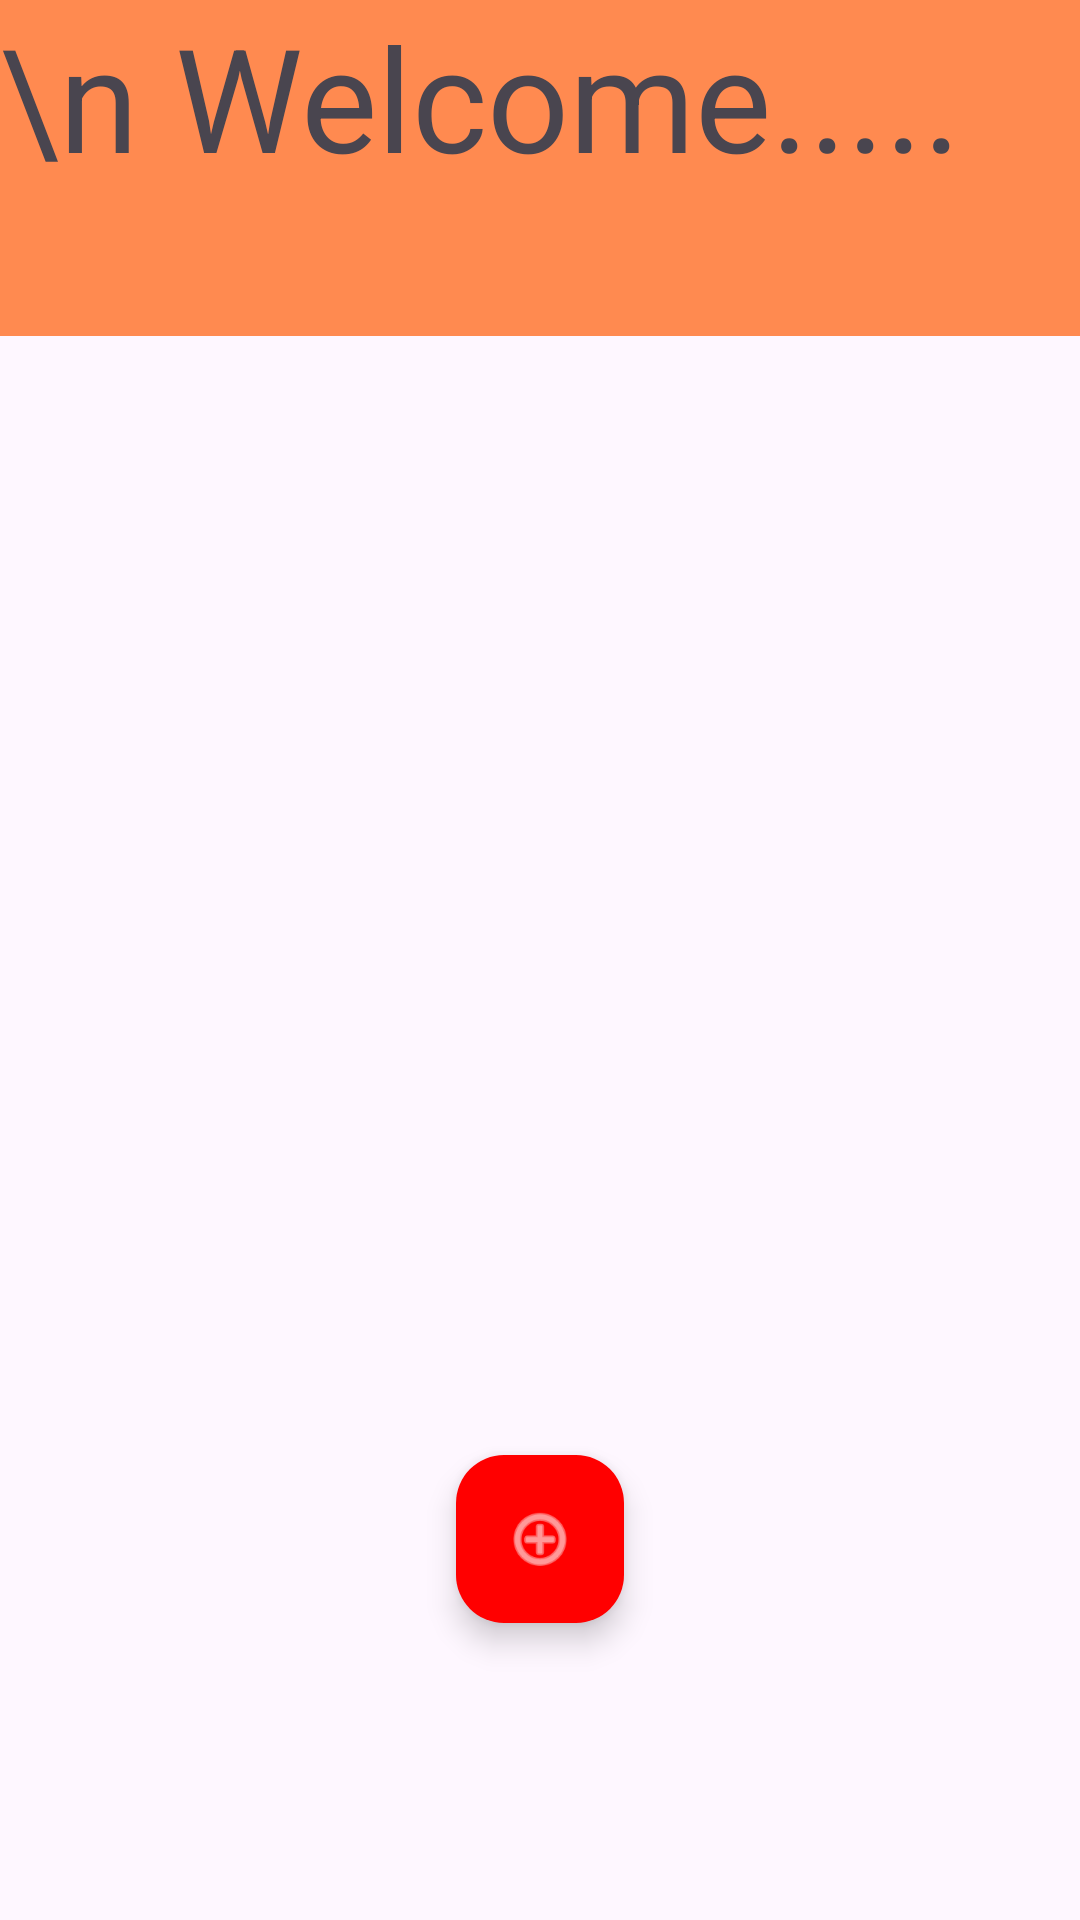

Screen size 1080x1920. Icon name, then its center in pixels as point (x, y):
add: point (540, 1539)
